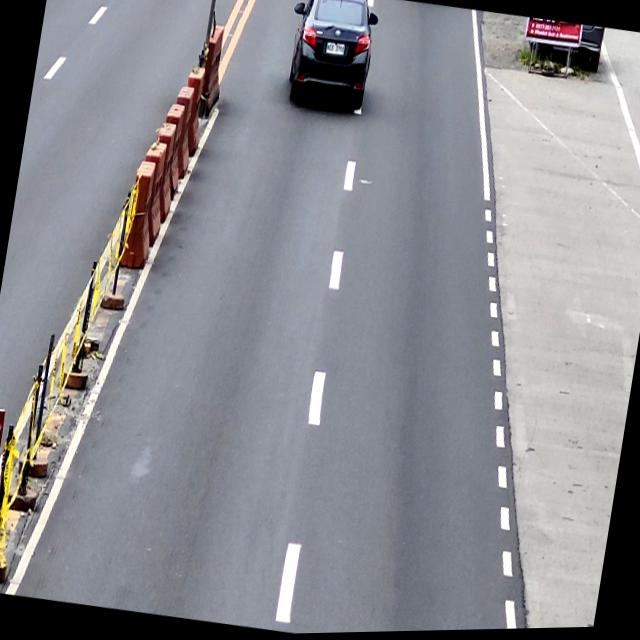Car: (281, 0, 383, 115)
License-Plate: (325, 43, 346, 56)
